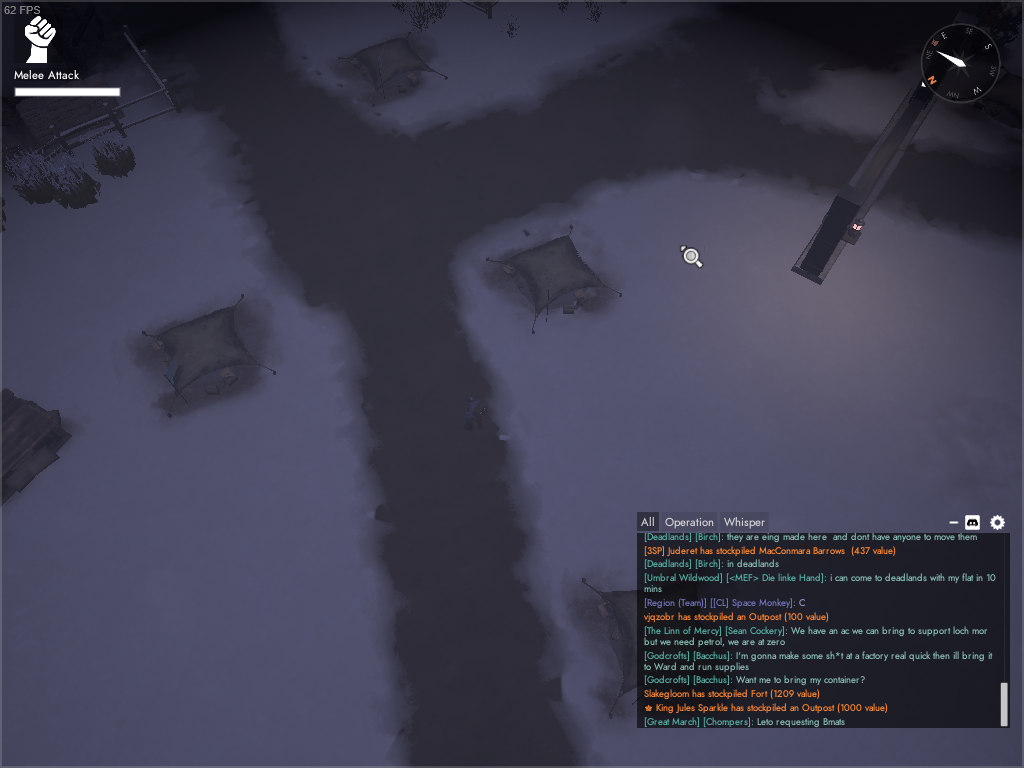foxhole: (581, 575, 743, 719), (140, 293, 277, 418), (484, 223, 624, 337), (337, 29, 450, 108)
pillbox: (1, 388, 74, 512)
player: (460, 395, 486, 433)
sandbag: (16, 71, 126, 149)
